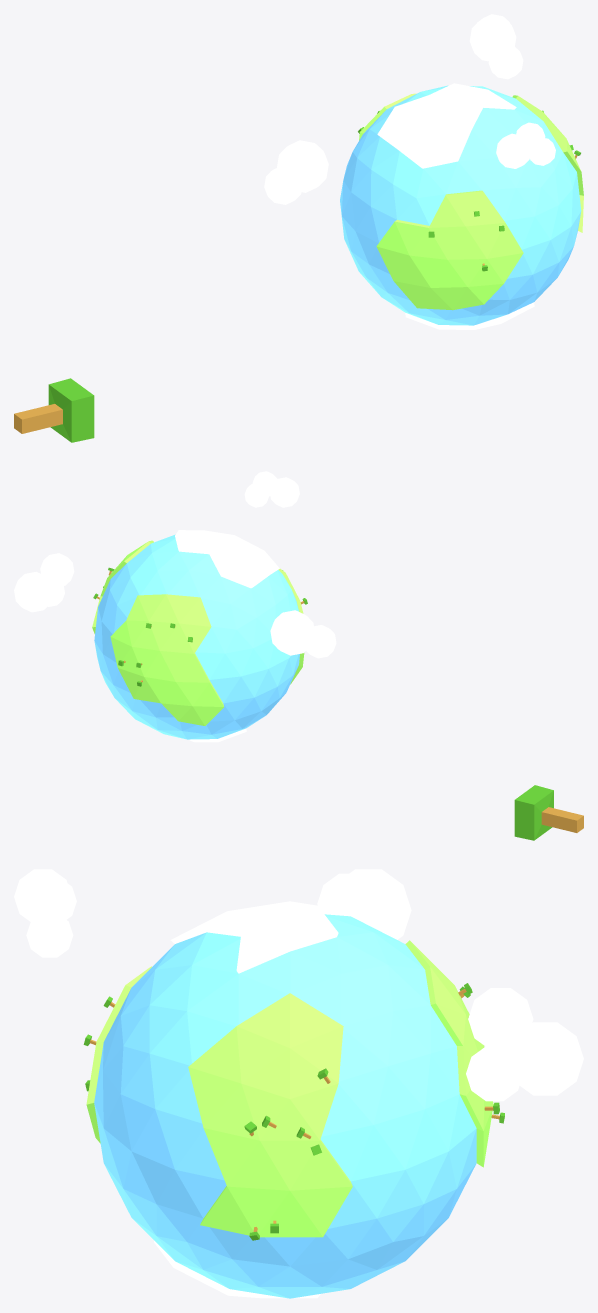
File: Planet.gltf
The picture shows the model from 3 angles, top to bottom: view 1: azimuth 30°, elevation 25°; view 2: azimuth 150°, elevation 25°; view 3: azimuth 270°, elevation 25°; orthographic projection. The views are drawn at different scales.
Visible parts, largest first — view 1: Model (×3); view 2: Model (×3); view 3: Model (×2).
Boxes of the visible parts, bbox=[...] form: Model (×3): bbox=[14, 14, 583, 442]; Model (×3): bbox=[14, 471, 583, 840]; Model (×2): bbox=[14, 869, 583, 1298].
Bounding box in the file's own units: 1888 × 844 × 1006.
